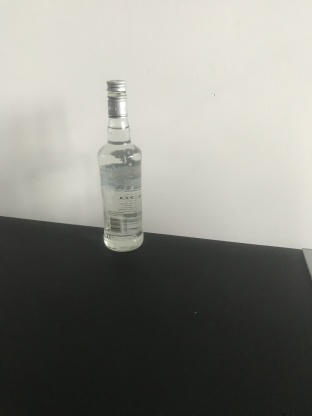nakretka: (105, 77, 128, 118)
